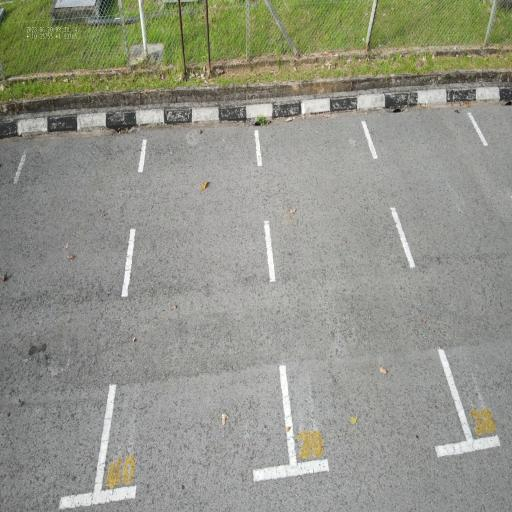Empty: (86, 111, 300, 512), (250, 113, 481, 480)
